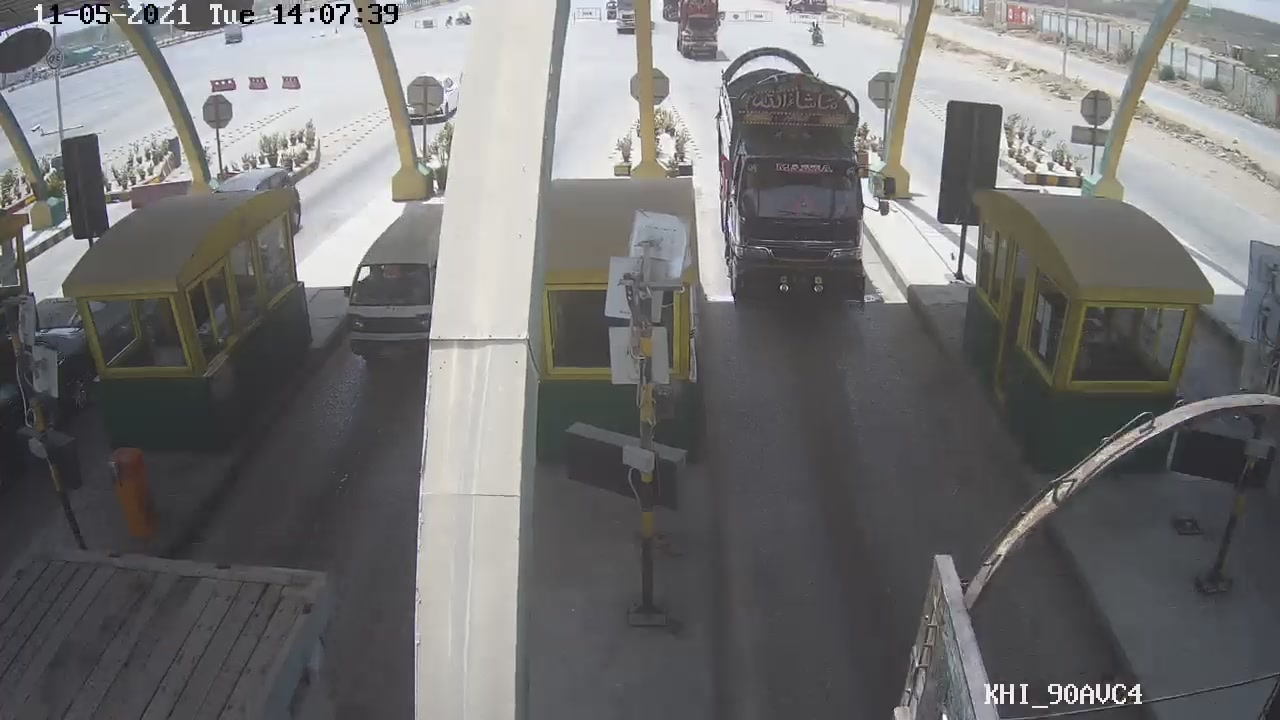F5: (700, 43, 884, 314)
